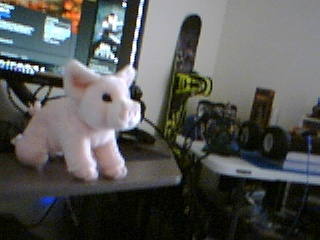piggy: (14, 58, 144, 182)
